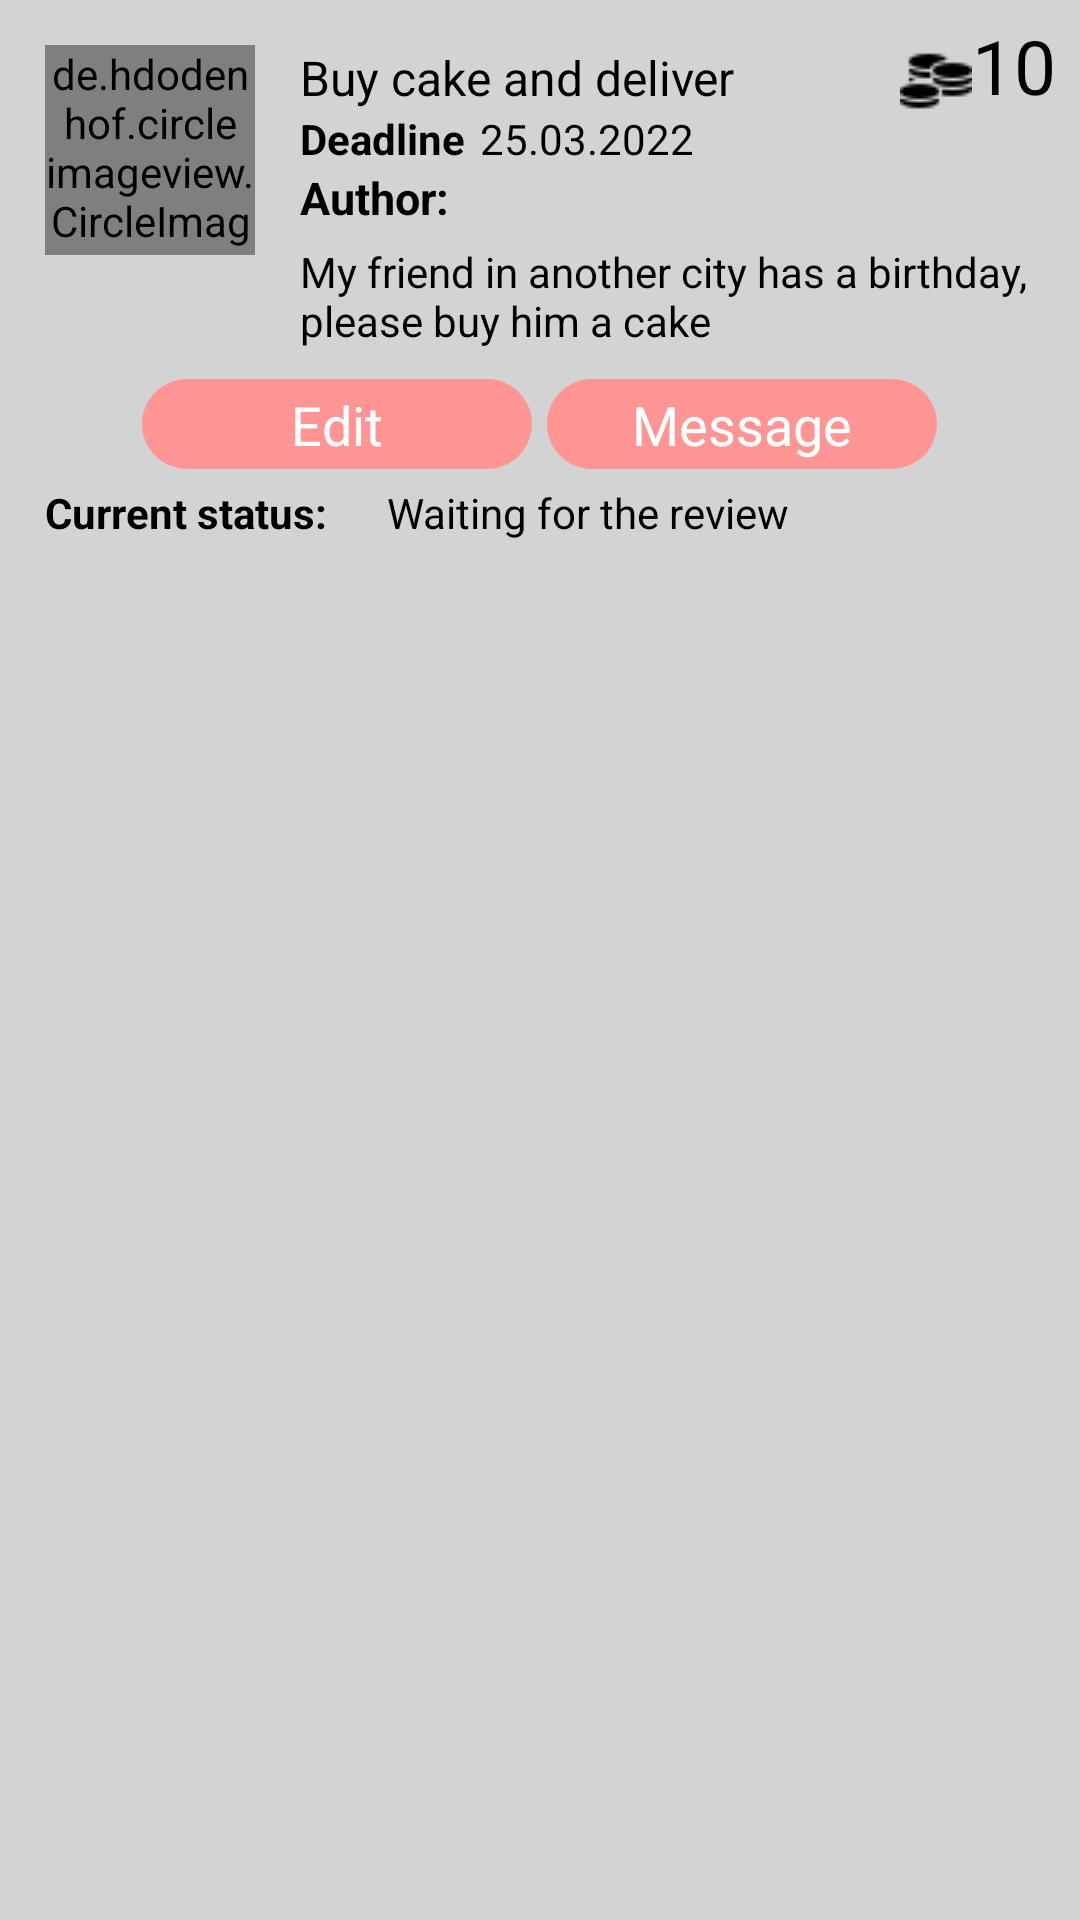

Locate icon controls on the screen. Image size 1080×1920, boxes as bbox(x1, y1, x2, y2).
coins: bbox(900, 53, 972, 109)
